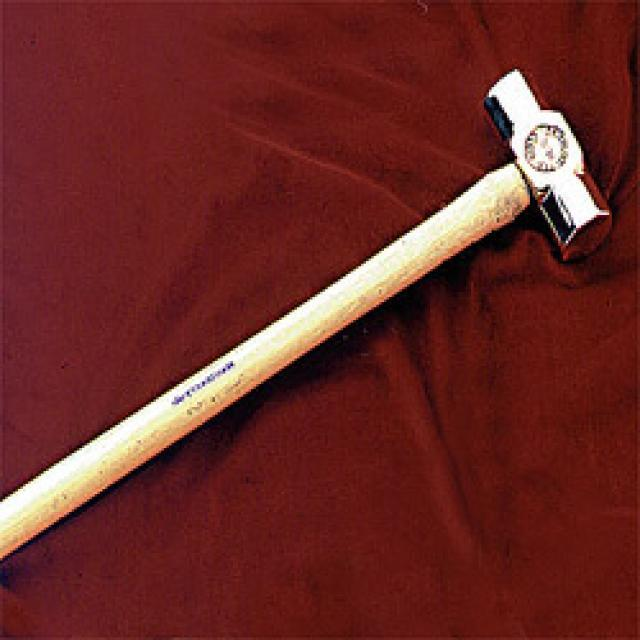hammer: (0, 61, 628, 576)
